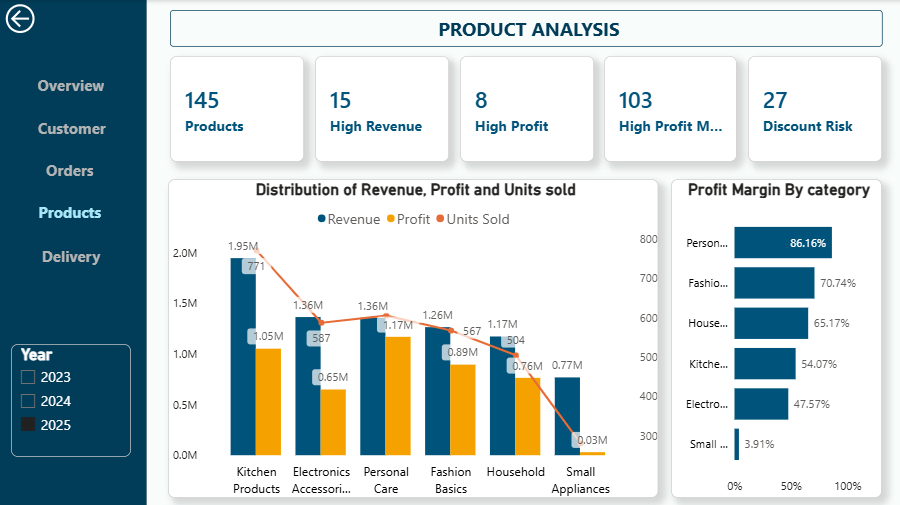

Layout of this report page (visuals, bound fields, positions):
{"tool":"powerbi","page":{"name":"Products","canvas":[1280,720],"ordinal":3},"visuals":[{"type":"actionButton","box":[20.2,155.3,169.7,50.4],"z":0},{"type":"actionButton","box":[16.8,217,169.7,48.7],"z":1000},{"type":"actionButton","box":[18,337,170.1,49.6],"z":2000},{"type":"actionButton","box":[16.8,277,169.7,48.7],"z":3000},{"type":"actionButton","box":[18,95,170,49],"z":4000},{"type":"textbox","box":[243.8,14.2,1010,52],"z":5000},{"type":"slicer","fields":{"Values":["Calendar.Date.Variation.Date Hierarchy.Year"]},"box":[18.5,487.1,169.7,159.6],"z":6000},{"type":"lineClusteredColumnComboChart","title":"Distribution of Revenue, Profit and Units sold","fields":{"Category":["products.category"],"Y":["measures_table.revenue","measures_table.profit"],"Y2":["Sum(order_items.quantity)"]},"box":[241.2,253.5,695.5,452.5],"z":7000},{"type":"cardVisual","fields":{"Data":["CountNonNull(products.product_id)"]},"box":[243.6,79,189.8,149.5],"z":8000},{"type":"cardVisual","fields":{"Data":["measures_table.Revenue Leaders Test"]},"box":[448.9,79,189.8,149.5],"z":9000},{"type":"cardVisual","fields":{"Data":["measures_table.Profit Leaders"]},"box":[654.2,79,189.8,149.5],"z":10000},{"type":"cardVisual","fields":{"Data":["measures_table.Margin Leaders"]},"box":[859.4,79.2,188.4,149.7],"z":11000},{"type":"cardVisual","fields":{"Data":["measures_table.Discount Risk"]},"box":[1063.3,79,189.8,149.5],"z":12000},{"type":"actionButton","box":[0,0,63.4,52.8],"z":13000},{"type":"clusteredBarChart","title":"Profit Margin By category","fields":{"Category":["products.category"],"Y":["measures_table.profit_margin"]},"box":[954.3,253.5,299.3,452.5],"z":14000}]}

Visuals, with their boxes on the page's 1280x720 design canvas (x1, y1, x2, y2). These are canvas units, not pixel positions in the 900x505 screenshot, which may show the page scaled, cropped or inside an application window:
actionButton: bbox=(20, 155, 190, 206)
actionButton: bbox=(17, 217, 186, 266)
actionButton: bbox=(18, 337, 188, 387)
actionButton: bbox=(17, 277, 186, 326)
actionButton: bbox=(18, 95, 188, 144)
textbox: bbox=(244, 14, 1254, 66)
slicer - Calendar.Date.Variation.Date Hierarchy.Year: bbox=(18, 487, 188, 647)
"Distribution of Revenue, Profit and Units sold" lineClusteredColumnComboChart: bbox=(241, 254, 937, 706)
cardVisual - CountNonNull(products.product_id): bbox=(244, 79, 433, 228)
cardVisual - measures_table.Revenue Leaders Test: bbox=(449, 79, 639, 228)
cardVisual - measures_table.Profit Leaders: bbox=(654, 79, 844, 228)
cardVisual - measures_table.Margin Leaders: bbox=(859, 79, 1048, 229)
cardVisual - measures_table.Discount Risk: bbox=(1063, 79, 1253, 228)
actionButton: bbox=(0, 0, 63, 53)
"Profit Margin By category" clusteredBarChart: bbox=(954, 254, 1254, 706)
